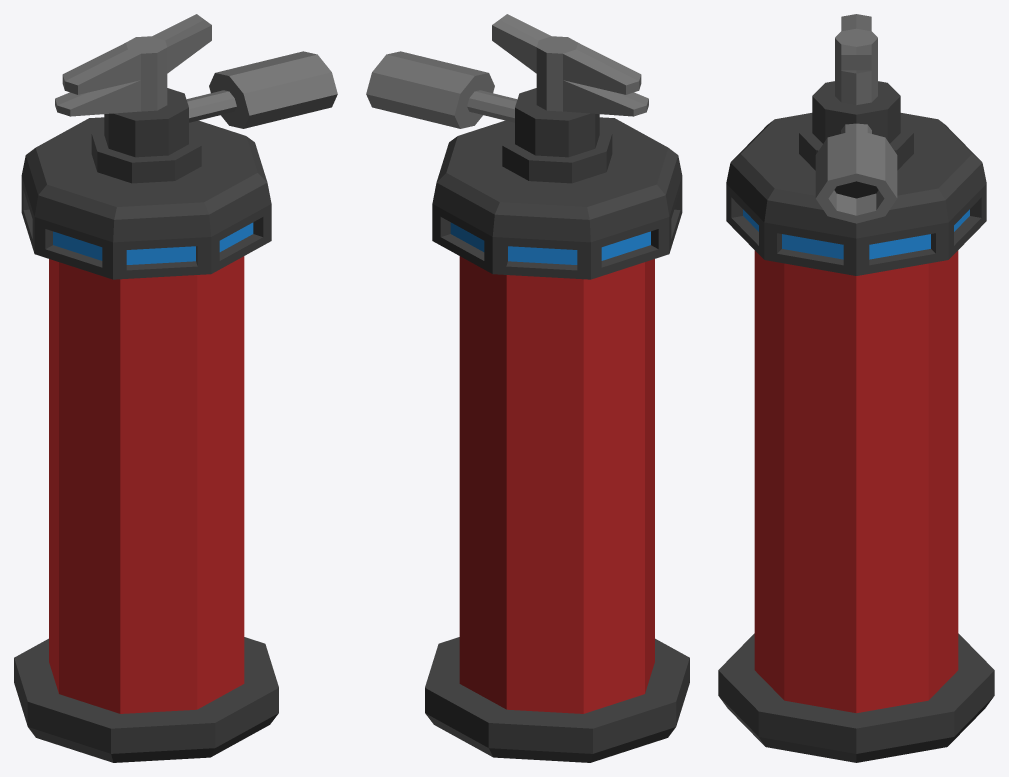
Rendered from Fire extinguisher.fbx.
The picture shows the model from 3 angles, left to right: view 1: azimuth 30°, elevation 25°; view 2: azimuth 150°, elevation 25°; view 3: azimuth 270°, elevation 25°; orthographic projection.
Parts seen in each view (by area): view 1: Cylinder.017; view 2: Cylinder.017; view 3: Cylinder.017.
Part boxes in pixels (box(x1,y1,x2,y2)): Cylinder.017: box(14, 14, 337, 762); Cylinder.017: box(366, 14, 689, 762); Cylinder.017: box(718, 14, 994, 762).
Size of the model in its own units: 0.1988 by 0.4474 by 0.163.
